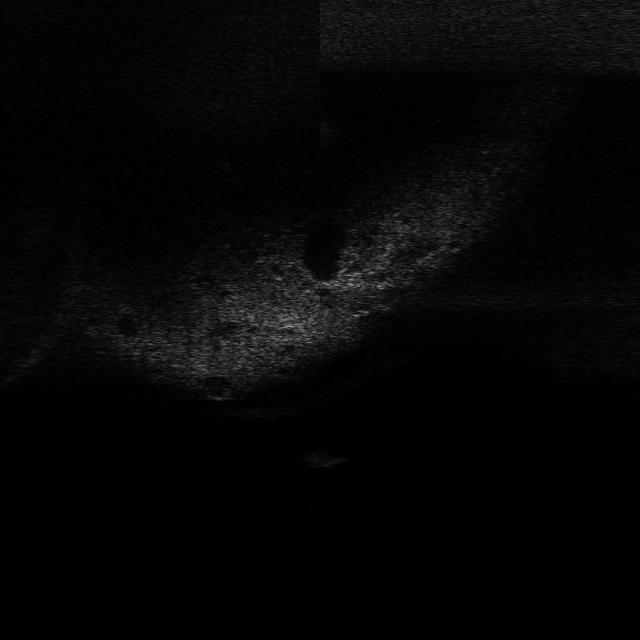cube: (296, 449, 350, 469)
